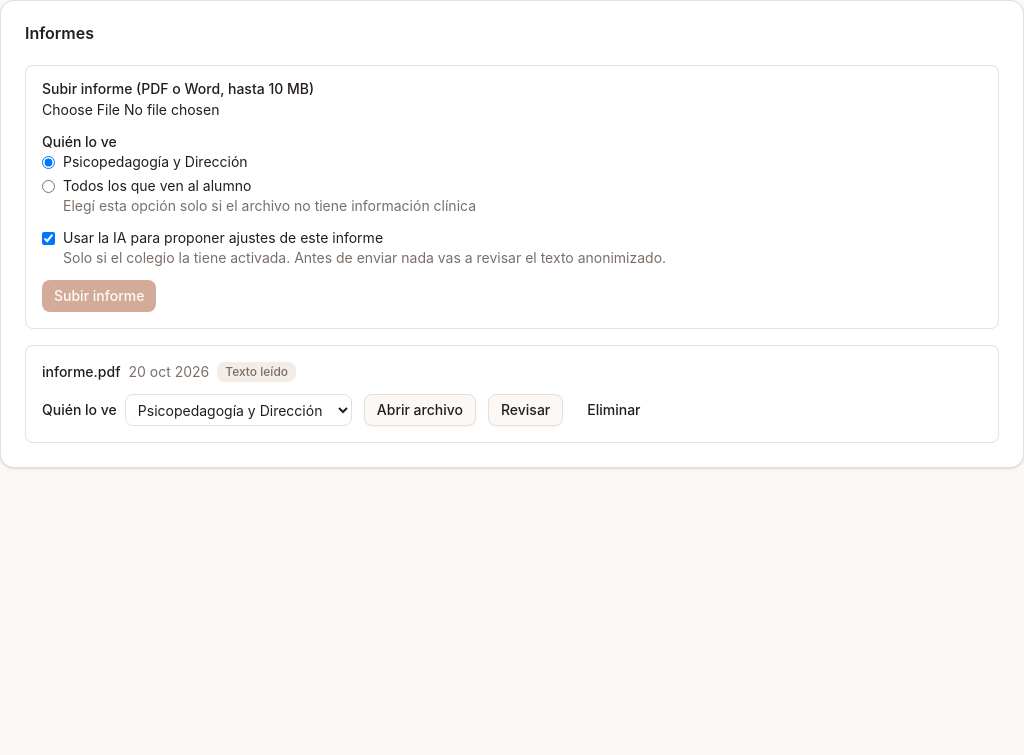
Test: StudentReportsSection › does not offer to send when the AI is off
This screenshot has width=1024, height=755.
Click the button "Revisar".
click(526, 410)  # box [488, 394, 563, 426]
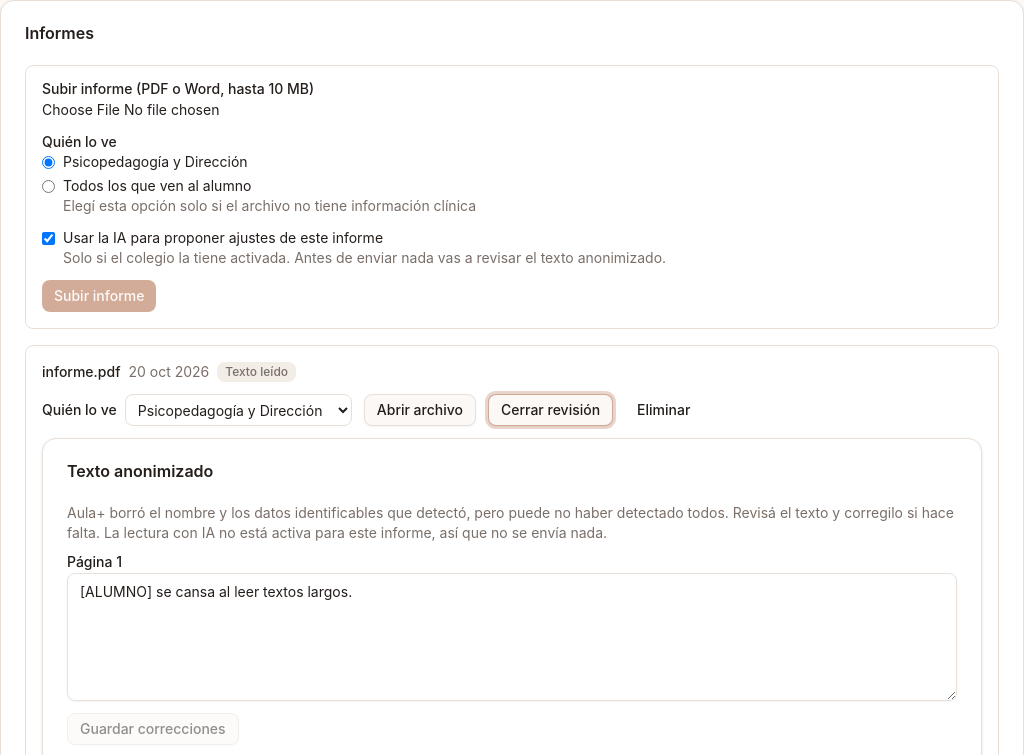
expect the text box labelled "Página 1" is shown: met, box [67, 573, 957, 701]
